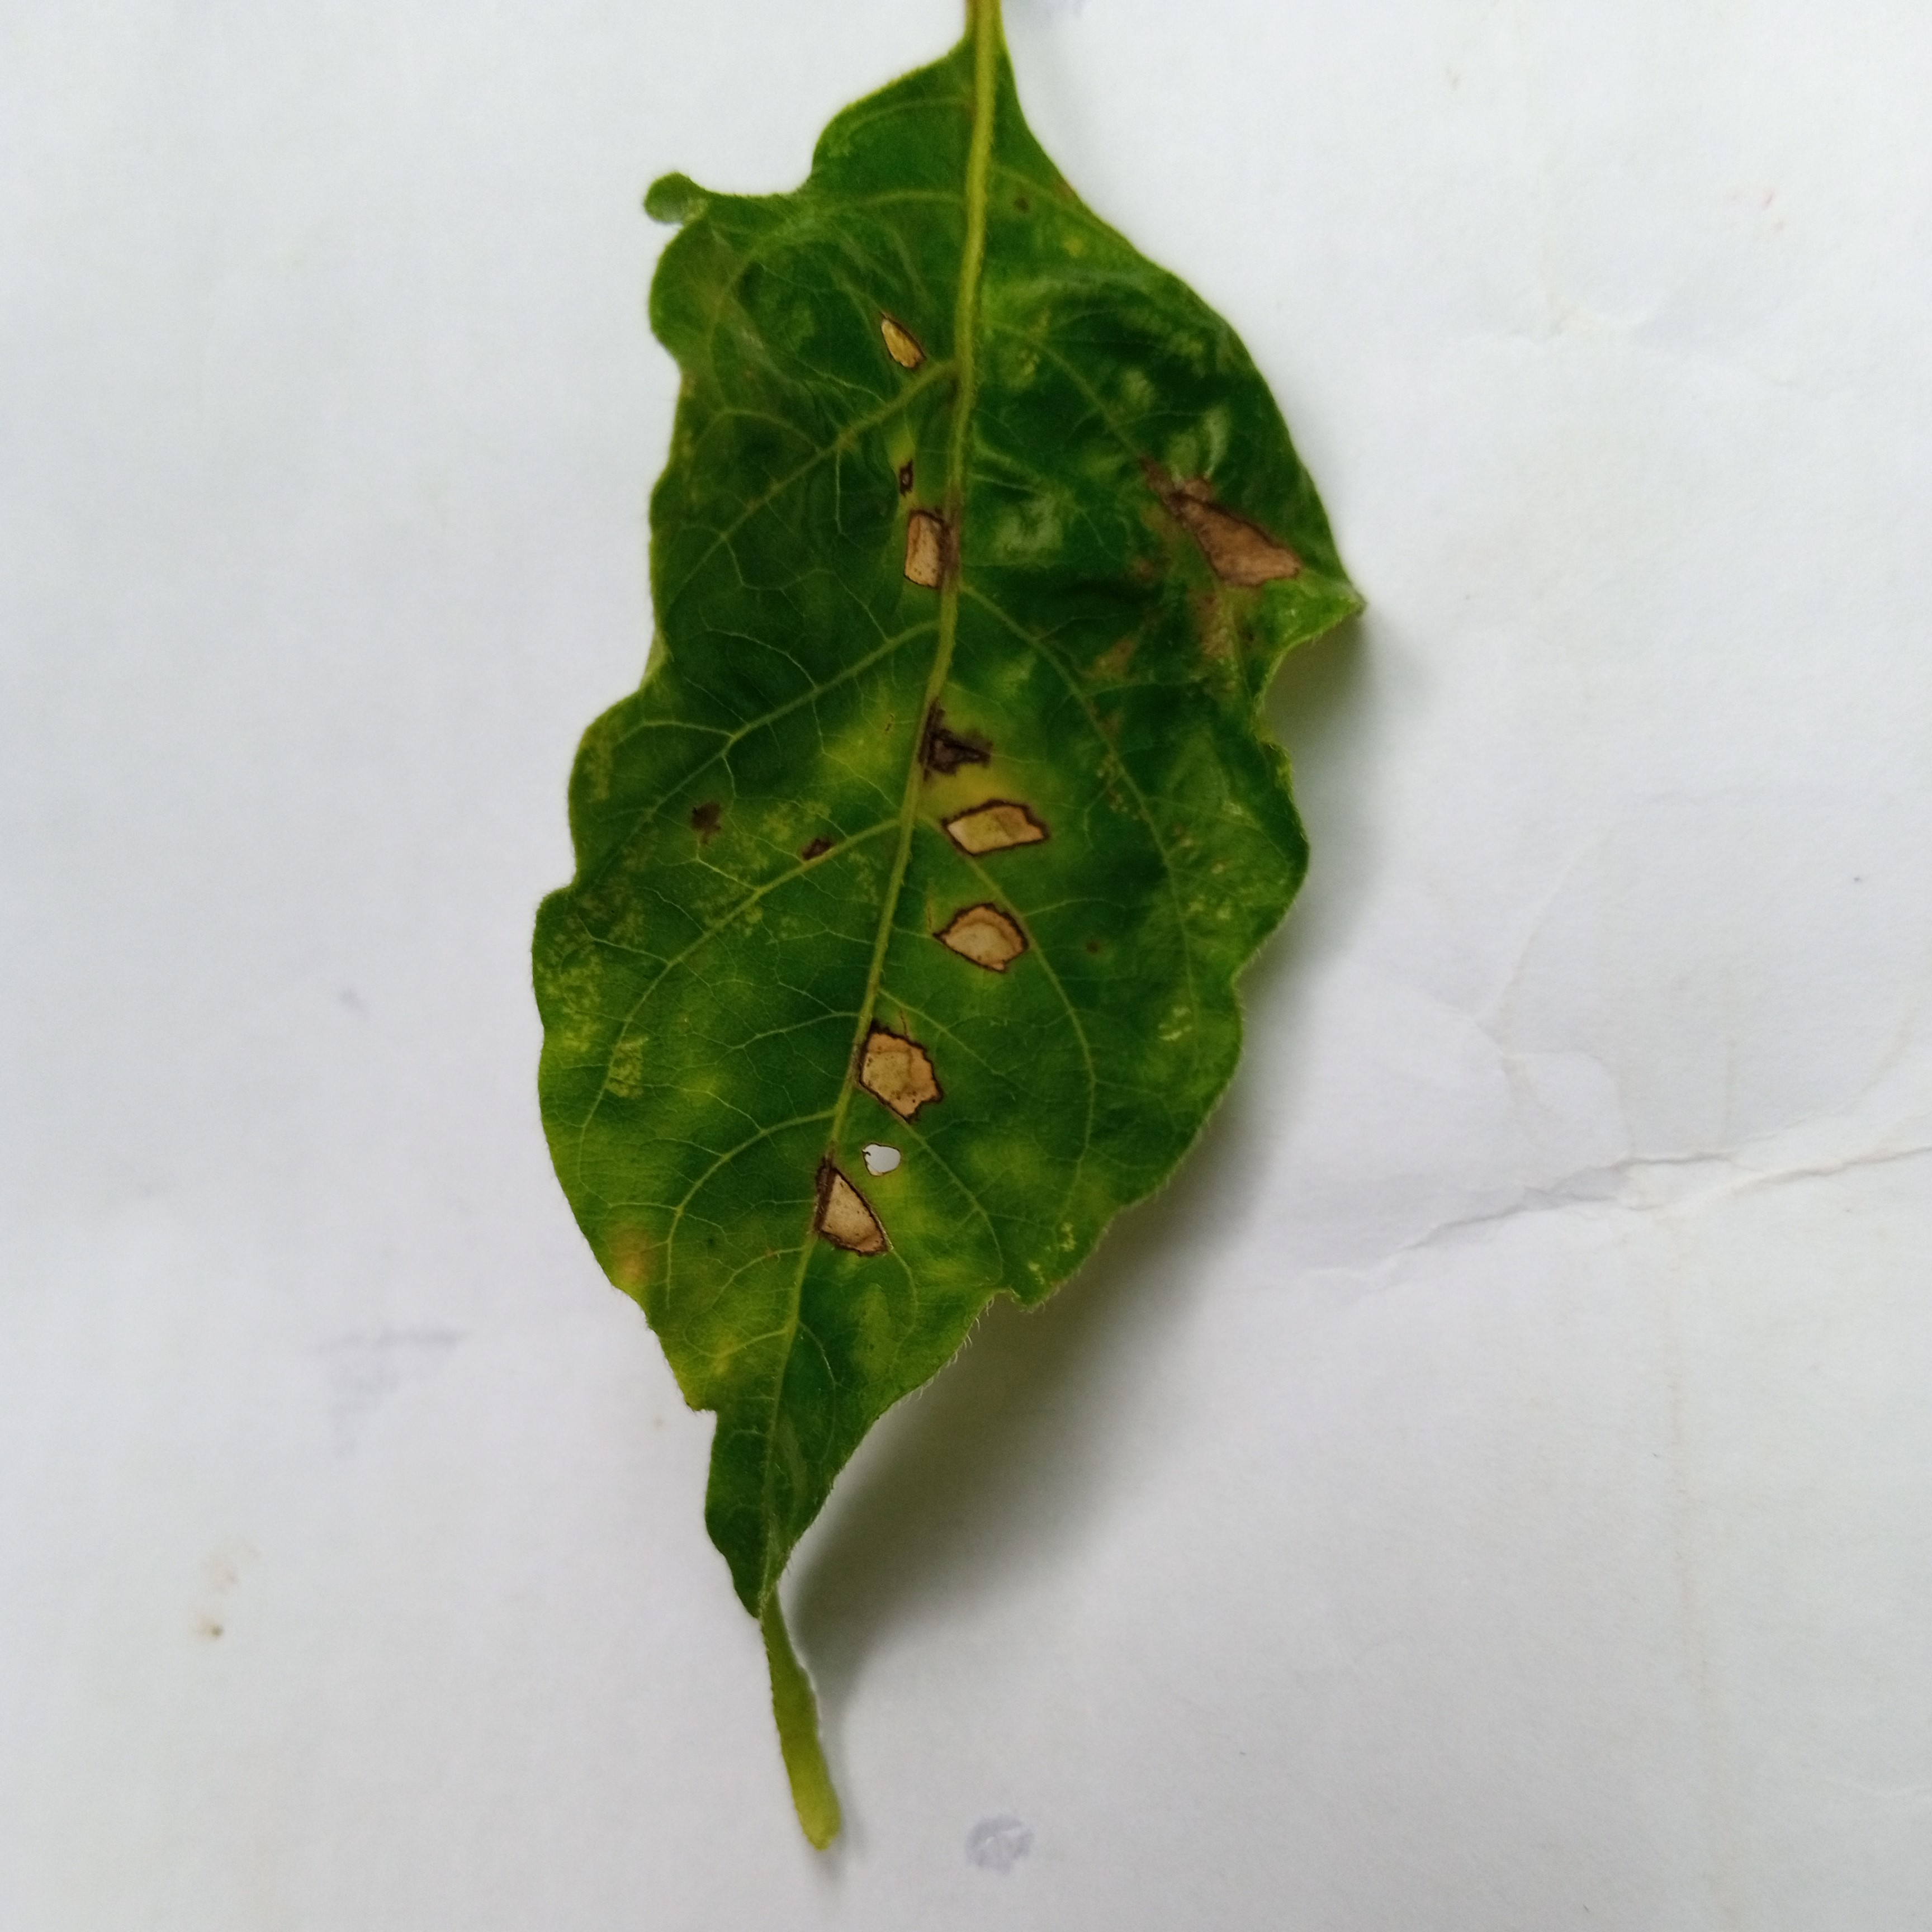Leaf: (451, 57, 1424, 1902)
